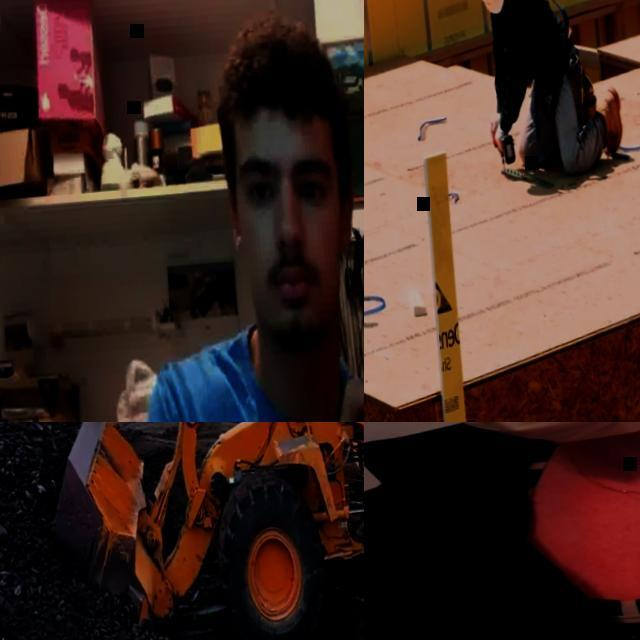helmet: (467, 0, 509, 18)
